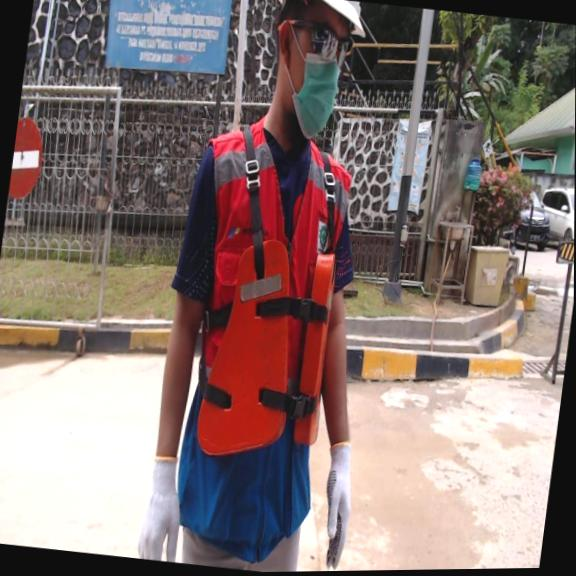safety_vest: (191, 231, 344, 472)
